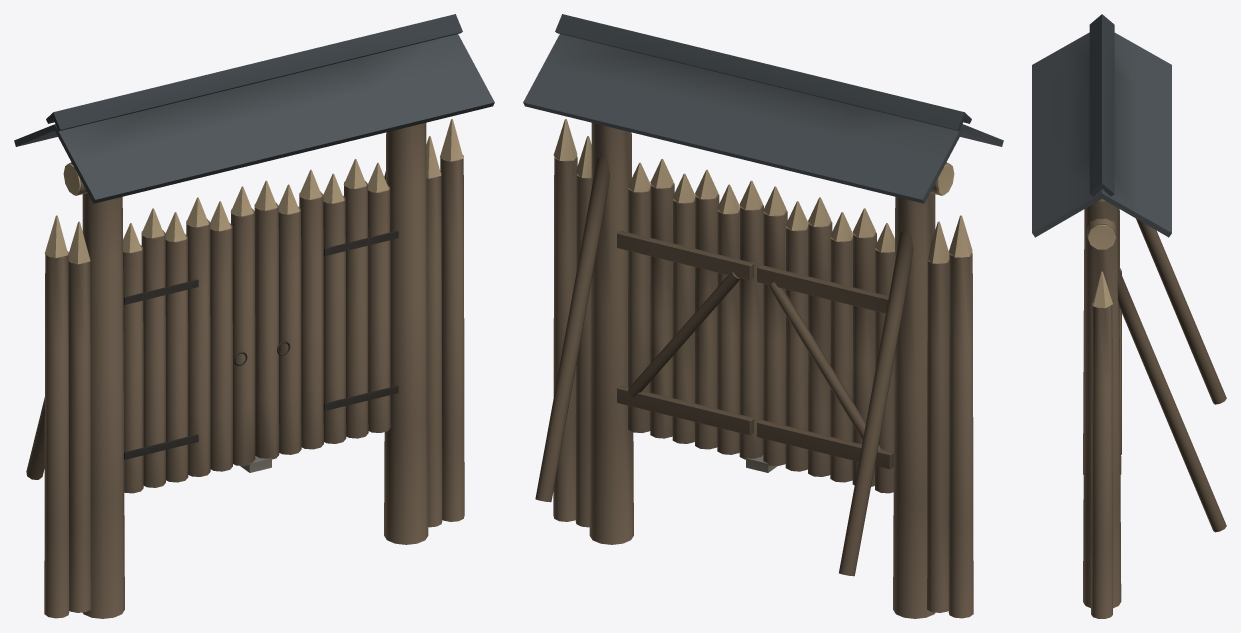
The model's file is pal_gate.glb.
The picture shows the model from 3 angles, left to right: view 1: azimuth 30°, elevation 25°; view 2: azimuth 150°, elevation 25°; view 3: azimuth 270°, elevation 25°; orthographic projection. The views are drawn at different scales.
Visible parts, largest first — view 1: ext, gateR, gateL; view 2: ext, gateR, gateL; view 3: ext, gateR.
Boxes of the visible parts, box(x1,y1,x2,y2) form: ext: box(14, 14, 494, 618); gateR: box(254, 159, 398, 459); gateL: box(123, 186, 255, 493); ext: box(523, 14, 1003, 618); gateR: box(617, 159, 763, 459); gateL: box(757, 186, 894, 493); ext: box(1032, 14, 1226, 618); gateR: box(1119, 308, 1121, 454).
Bounding box in the file's own units: 5.63 × 6.58 × 2.64.
